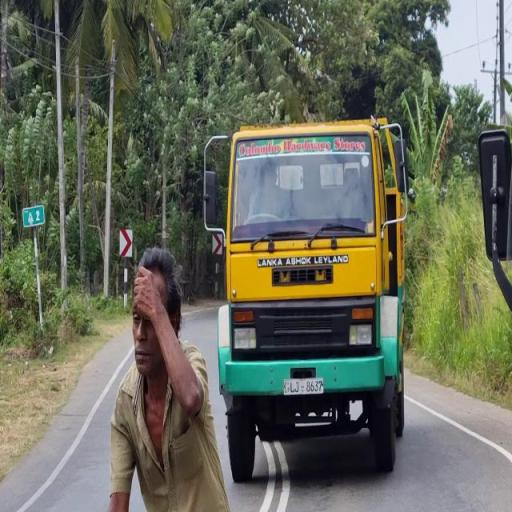double_white_line: (14, 346, 128, 512), (258, 440, 290, 511)
